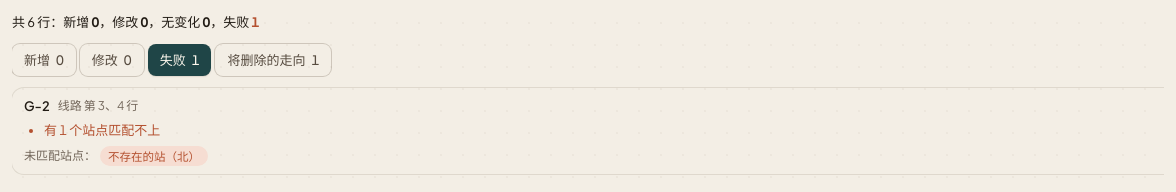
Test: 导入预览 › 线路导入：失败里列出未匹配站点，另有"将删除的走向"页签
Expected: the text "不存在的站（北）" is shown, [100,146,208,166]
Click the tab "将删除的走向 1". click: (273, 60)
box: [216,44,331,76]
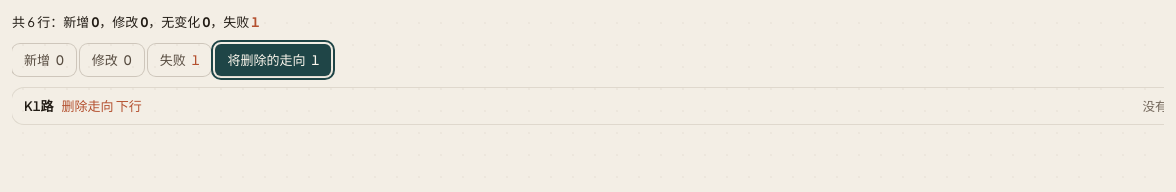
Expected: the text "删除走向 下行" is shown, [62,96,142,116]
